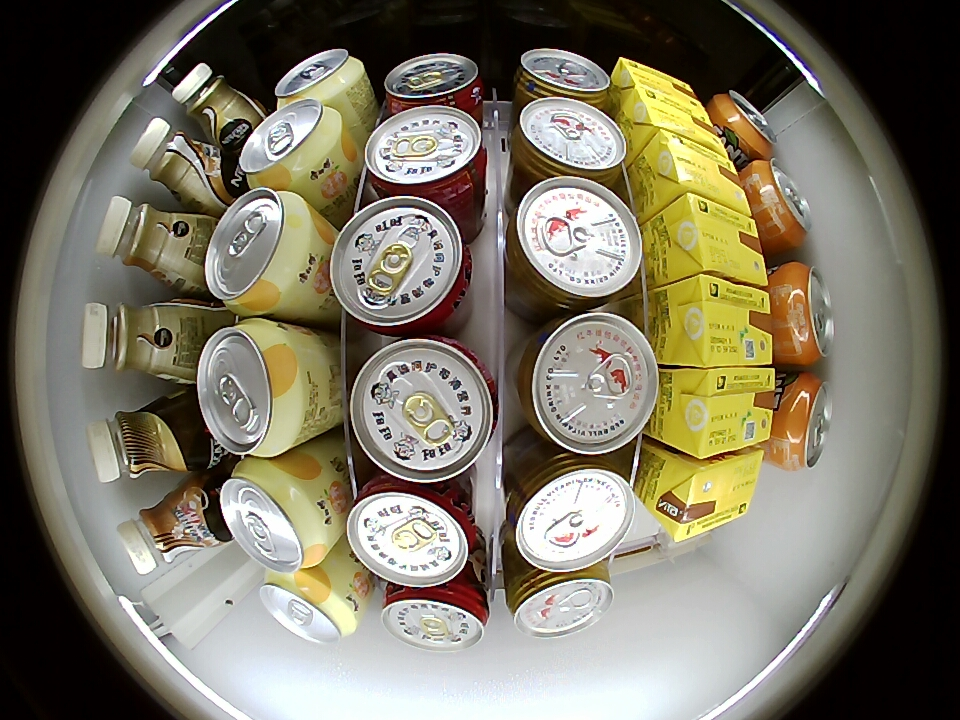fenda: (774, 262, 835, 365), (747, 159, 812, 248), (774, 373, 833, 471), (713, 90, 776, 160)
hongniu2: (516, 312, 658, 455), (507, 178, 642, 310), (505, 453, 635, 573), (511, 98, 627, 185), (505, 563, 615, 639), (514, 49, 612, 106)
kafei: (96, 197, 204, 292), (86, 396, 201, 482), (116, 483, 223, 573), (128, 118, 228, 207), (80, 301, 191, 380), (172, 63, 258, 145)
mangguoxiaolao: (196, 319, 308, 457), (205, 187, 316, 316), (219, 459, 333, 574), (240, 98, 345, 190), (260, 570, 359, 645), (275, 49, 367, 108)
wangzainiunai: (348, 336, 499, 483), (329, 196, 474, 336), (346, 473, 479, 587), (364, 105, 488, 210), (381, 575, 490, 652), (382, 52, 485, 117)
weitaningmeng: (654, 449, 763, 541), (663, 192, 768, 286), (671, 367, 777, 459), (669, 275, 774, 366), (645, 130, 750, 214), (625, 86, 728, 156), (612, 58, 706, 113)
